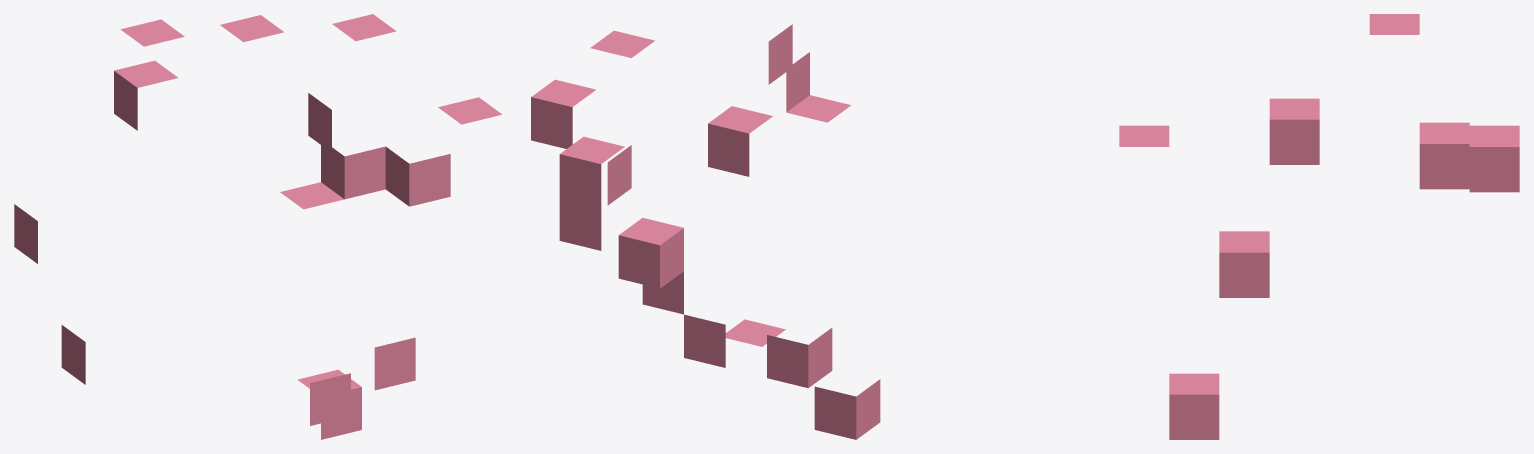
The model's file is tree-cherry-0p9-white-f28fab.gltf.
3 renders of one model, left to right at view 1: azimuth 30°, elevation 25°; view 2: azimuth 150°, elevation 25°; view 3: azimuth 270°, elevation 25°, orthographic. The views are drawn at different scales.
Parts seen in each view (by area): view 1: tree-cherry-0p9-white-f28fab; view 2: tree-cherry-0p9-white-f28fab; view 3: tree-cherry-0p9-white-f28fab.
Part boxes in pixels (x1,y1,x2,y2): tree-cherry-0p9-white-f28fab: (14, 14, 501, 439); tree-cherry-0p9-white-f28fab: (531, 24, 880, 439); tree-cherry-0p9-white-f28fab: (1119, 14, 1519, 439).
Size of the model in its own units: 9 by 8 by 11.
